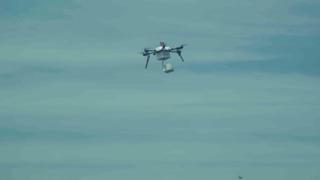UAV: (137, 42, 190, 74)
